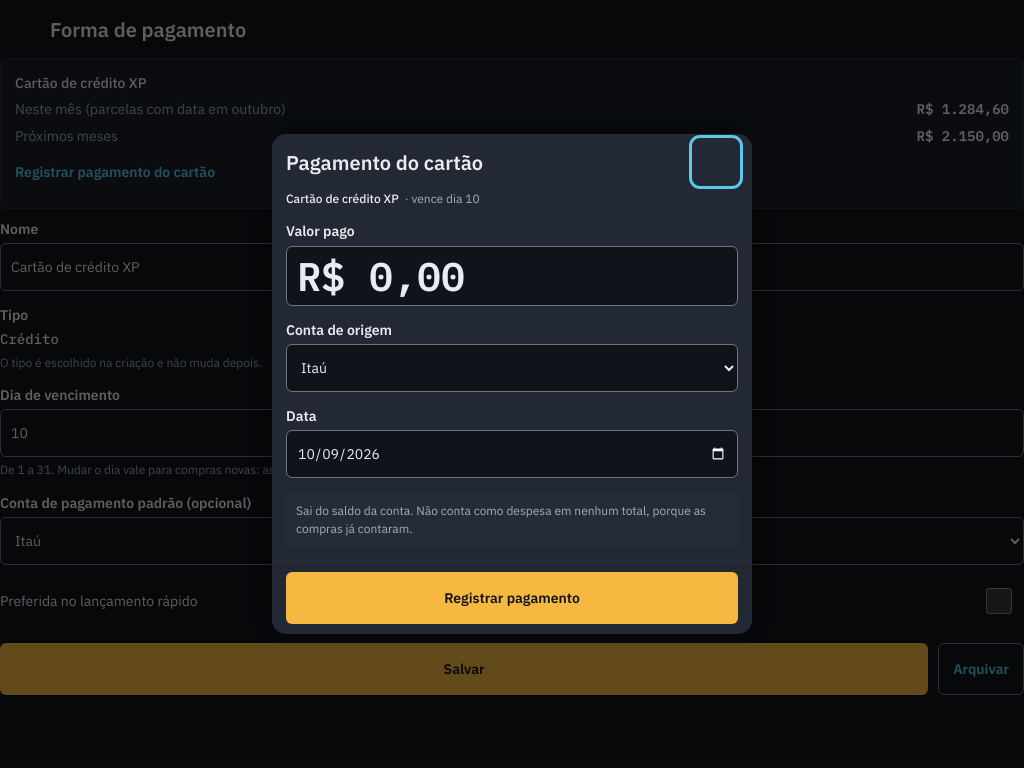
T21 folha de pagamento do cartão › durante o envio o botão mostra "Registrando…"
The width and height of the screenshot is (1024, 768).
In the field labelled "Valor pago": (512, 276) [286,246,738,306], type "50000"
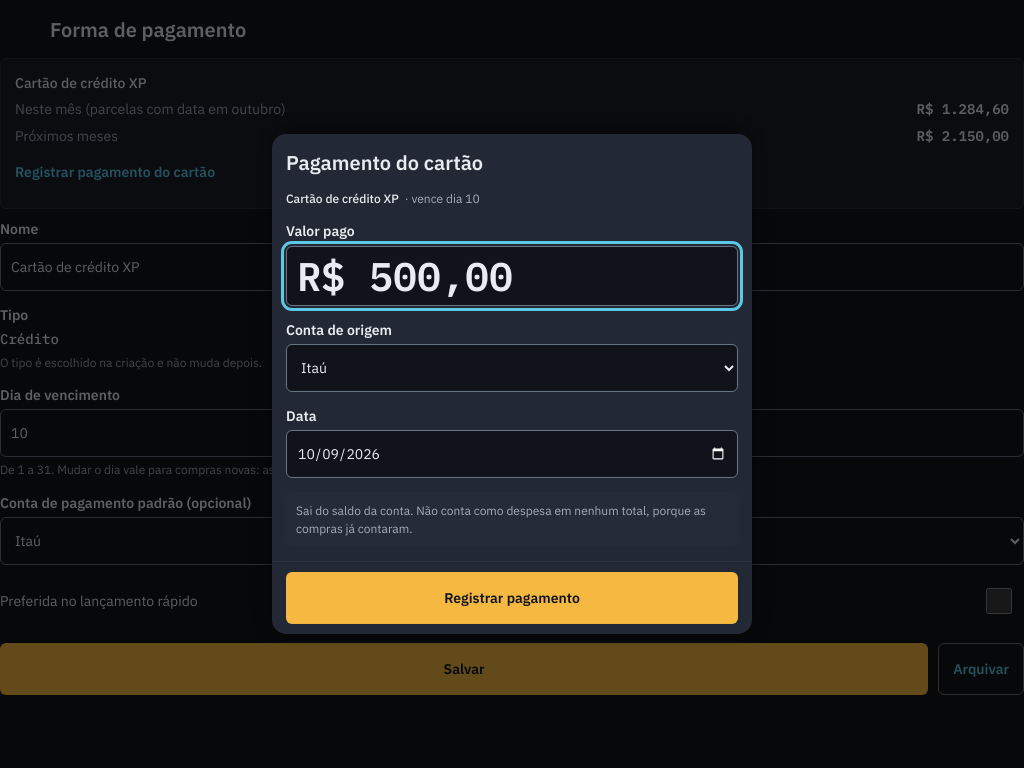
Click the button "Registrar pagamento": (512, 598) [286,572,738,624]
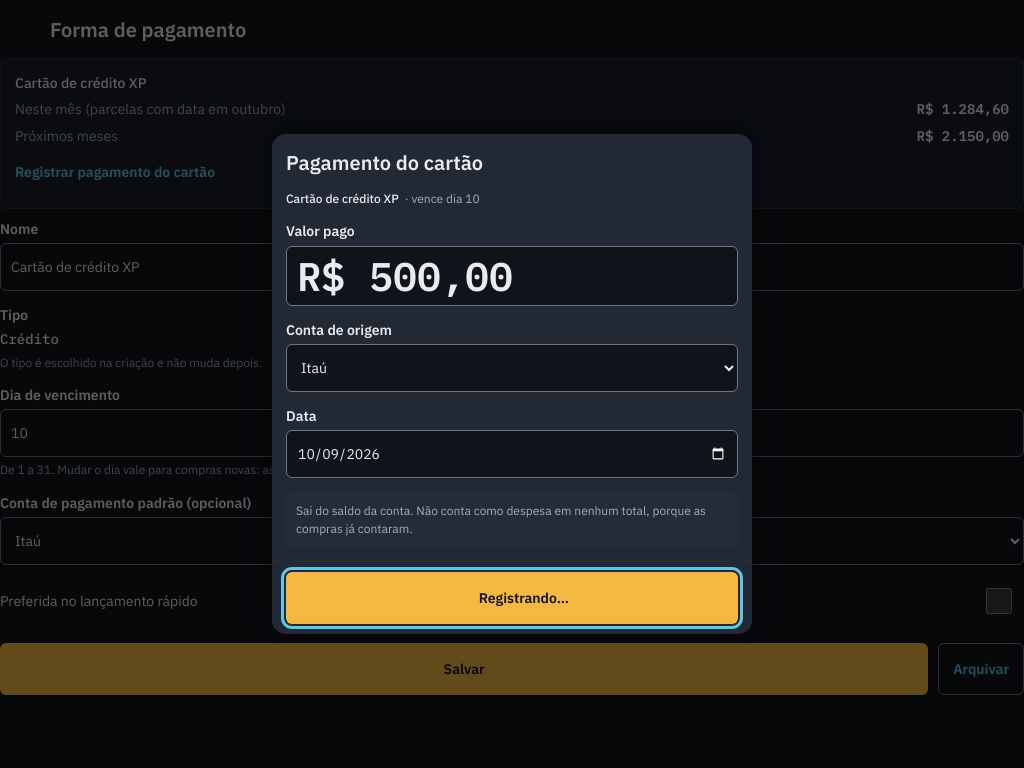
Expected: the button "Registrando…" is shown, [286,572,738,624]
